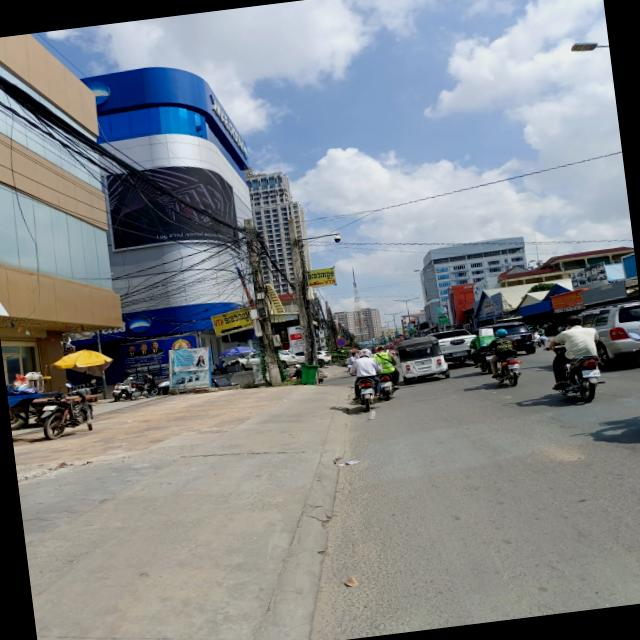Yolov11_80vkh: (220, 307, 251, 326), (306, 267, 334, 282)
